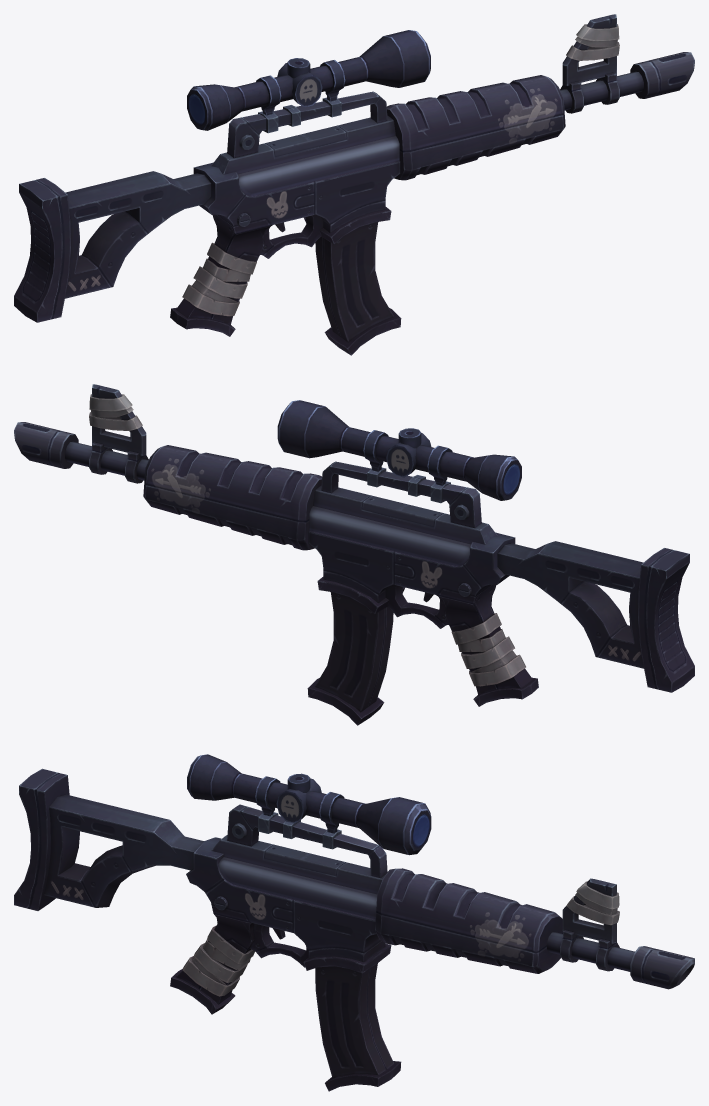
The model's file is Assault_Rifle_M4_with_scope.fbx.
The picture shows the model from 3 angles, top to bottom: view 1: azimuth 30°, elevation 25°; view 2: azimuth 150°, elevation 25°; view 3: azimuth 330°, elevation 25°; orthographic projection.
Parts seen in each view (by area): view 1: Assault_Rifle, SniperRifle_Scope; view 2: Assault_Rifle, SniperRifle_Scope; view 3: Assault_Rifle, SniperRifle_Scope.
Part boxes in pixels (x1,y1,x2,y2): Assault_Rifle: [14, 14, 694, 355]; SniperRifle_Scope: [187, 30, 430, 130]; Assault_Rifle: [14, 384, 694, 725]; SniperRifle_Scope: [277, 400, 521, 500]; Assault_Rifle: [14, 768, 694, 1091]; SniperRifle_Scope: [187, 754, 431, 855].
Bounding box in the file's own units: 3.84 × 1.64 × 0.3156.
